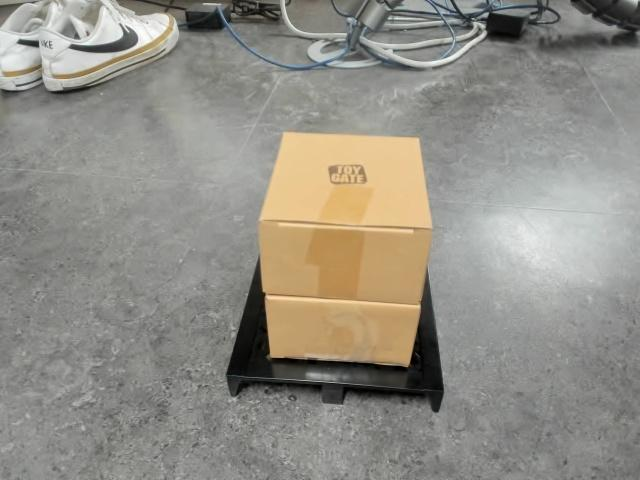box: (226, 131, 447, 411)
